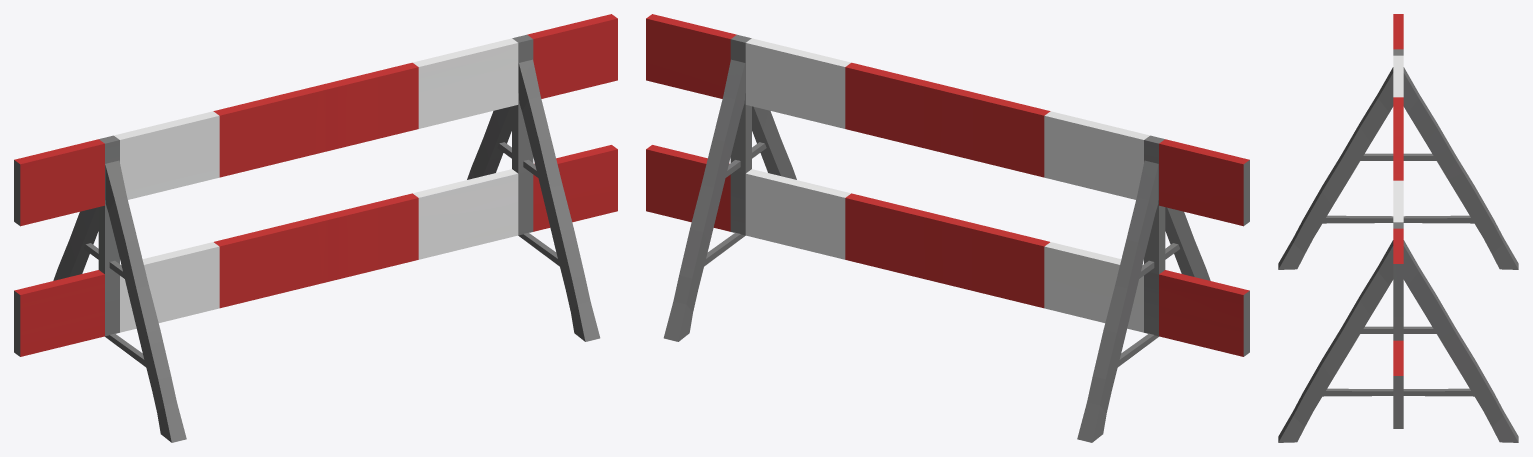
Rendered from Afzethek.fbx.
3 views of the same model, side by side, from view 1: azimuth 30°, elevation 25°; view 2: azimuth 150°, elevation 25°; view 3: azimuth 270°, elevation 25° (orthographic). The views are drawn at different scales.
Visible parts, largest first — view 1: Afzethek; view 2: Afzethek; view 3: Afzethek.
Boxes of the visible parts, <box> form: Afzethek: <box>14,14,617,442</box>; Afzethek: <box>646,14,1249,442</box>; Afzethek: <box>1278,14,1518,442</box>.
Bounding box in the file's own units: 300 × 120 × 122.
